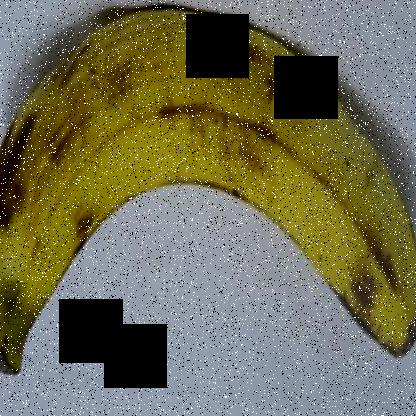ripe: (0, 1, 415, 380)
